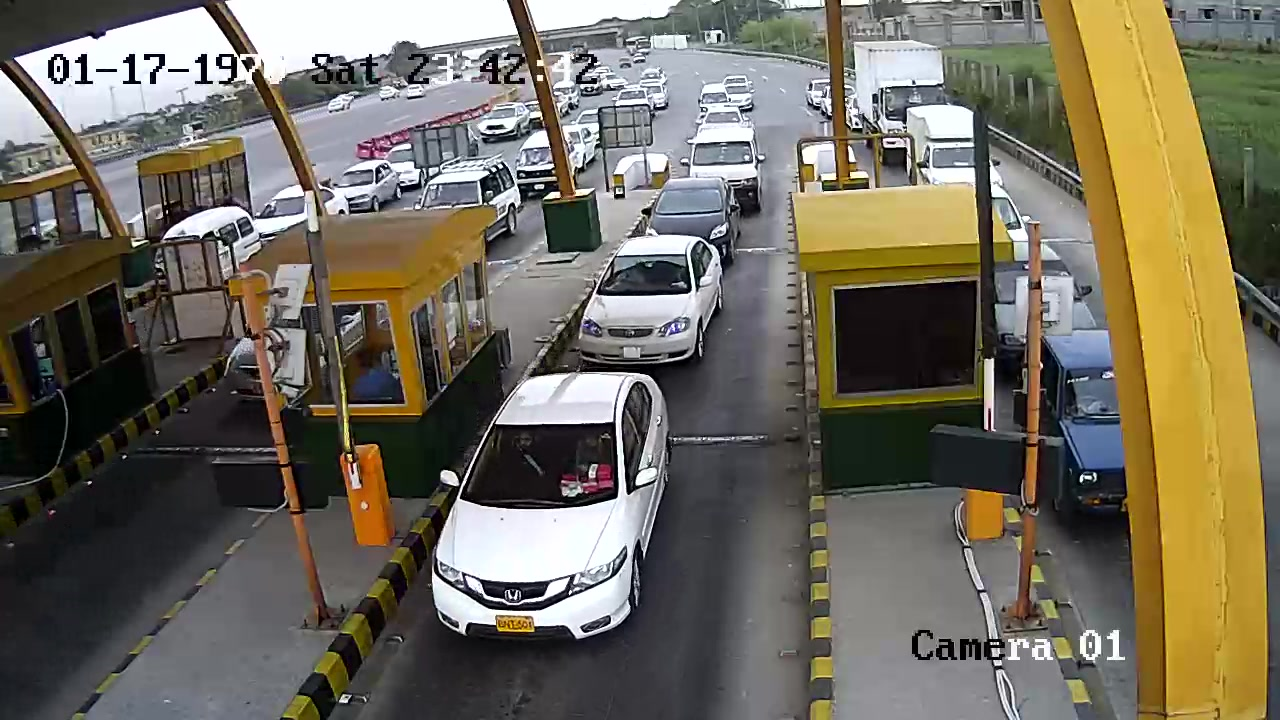F1: (428, 364, 715, 657)
